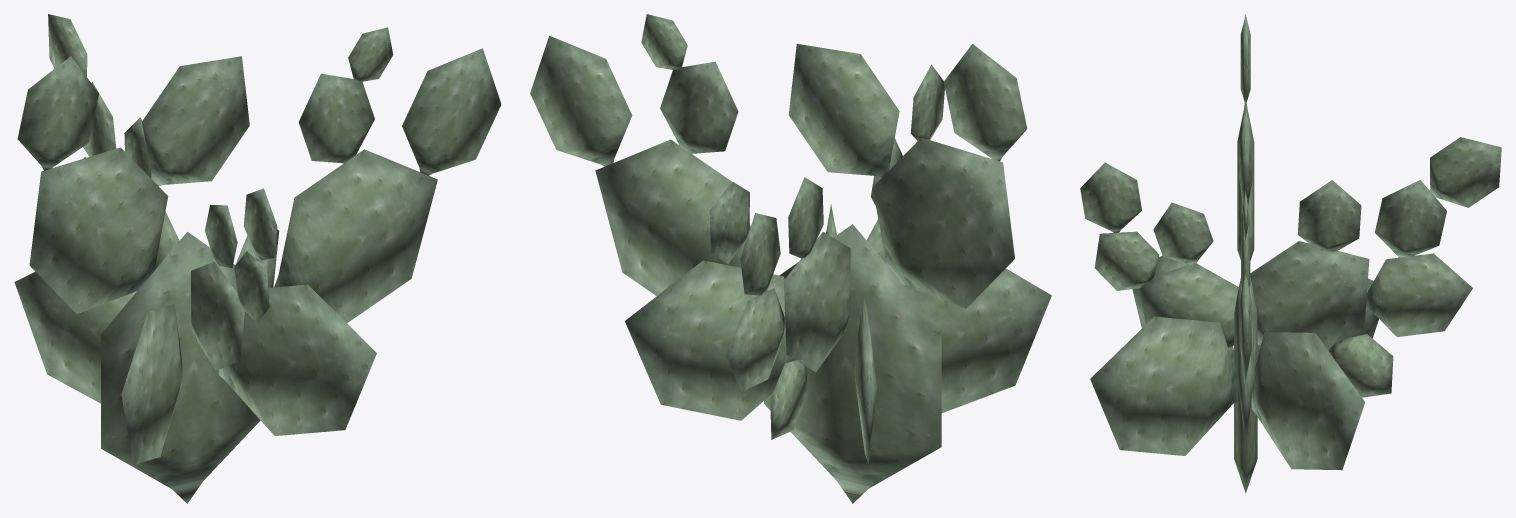
Rendered from nopal_small_b.dae.
3 views of the same model, side by side, from view 1: azimuth 30°, elevation 25°; view 2: azimuth 150°, elevation 25°; view 3: azimuth 270°, elevation 25° (orthographic). The views are drawn at different scales.
Parts seen in each view (by area): view 1: NopalSmallA_001; view 2: NopalSmallA_001; view 3: NopalSmallA_001.
Boxes of the visible parts, x1,y1,x2,y2 form: NopalSmallA_001: [14, 14, 501, 503]; NopalSmallA_001: [530, 14, 1051, 503]; NopalSmallA_001: [1080, 14, 1501, 493].
Bounding box in the file's own units: 5.27 × 4.32 × 4.95.
